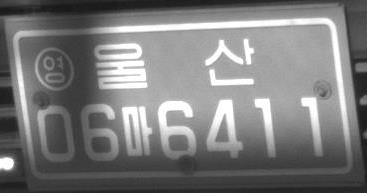0: (36, 103, 76, 164)
1: (248, 97, 285, 158), (293, 96, 329, 157)
4: (205, 98, 243, 157)
6: (156, 99, 197, 160), (79, 103, 119, 162)
마: (120, 105, 153, 156)
영: (34, 47, 74, 92)
울산_D: (93, 37, 254, 91)
